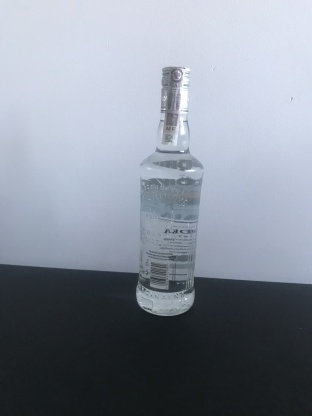nakretka: (159, 63, 192, 117)
